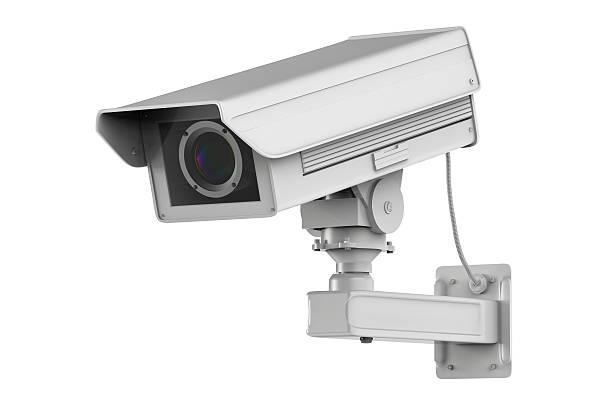camera: (72, 0, 521, 277)
